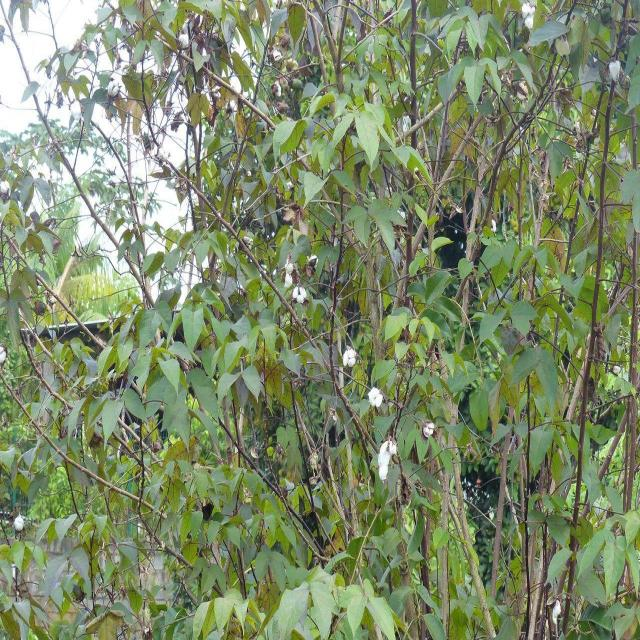Early_blight: (376, 433, 401, 486), (521, 1, 536, 33), (341, 345, 358, 373), (420, 414, 436, 442), (367, 384, 384, 410), (0, 177, 13, 206), (12, 511, 26, 536), (177, 28, 190, 54), (292, 286, 308, 304), (107, 78, 119, 101), (284, 261, 294, 288), (0, 336, 6, 370), (273, 80, 282, 100), (272, 51, 284, 62), (212, 86, 221, 100), (309, 256, 319, 268)
